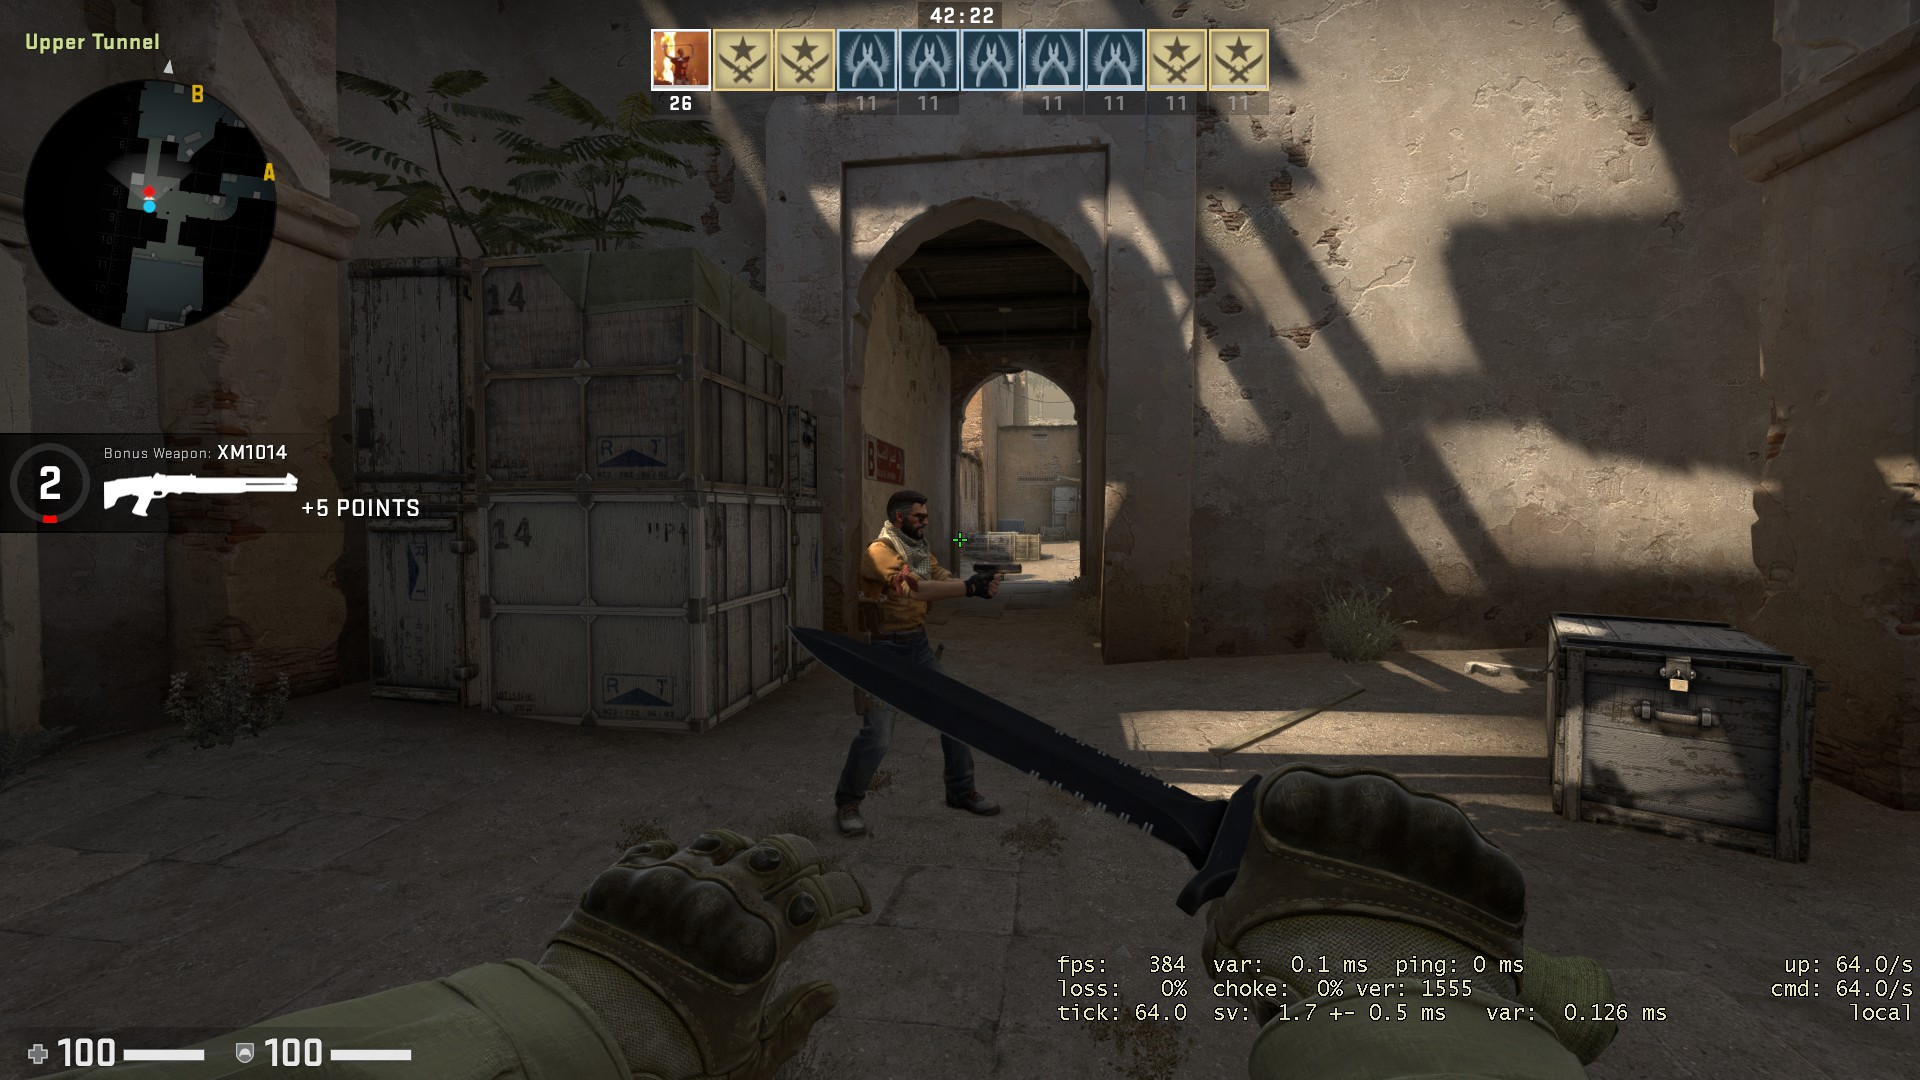player: (830, 483, 1027, 840)
